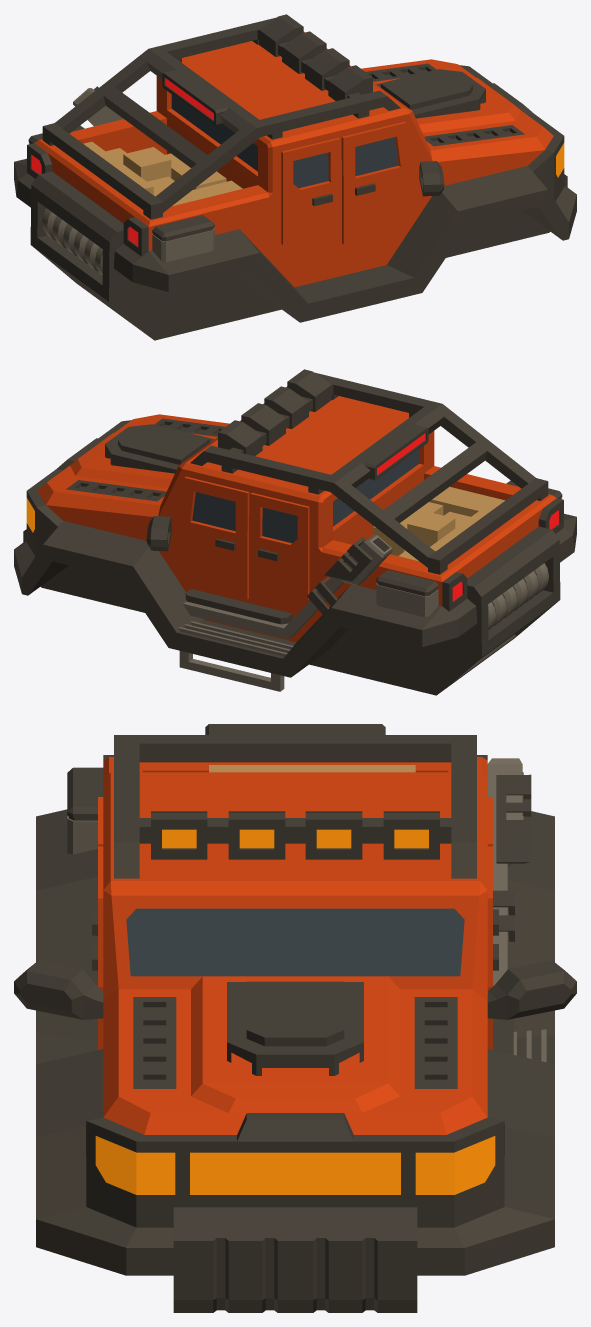
File: chassis.glb
3 renders of one model, top to bottom at view 1: azimuth 30°, elevation 25°; view 2: azimuth 150°, elevation 25°; view 3: azimuth 270°, elevation 25°, orthographic. The views are drawn at different scales.
Parts seen in each view (by area): view 1: Plane.001, Cube.011, Cube.017, Plane.003, Cube.033, stopLights; view 2: Plane.001, Cube.011, Plane.003, Cube.033, Cube.017, stopLights; view 3: Plane.001, Cube.011, Cube.017, Cube.099, Plane.003, blinkerLeft, blinkerRight, Cube.033.
Boxes of the visible parts, x1,y1,x2,y2 form: Plane.001: (14,14,576,340); Cube.011: (34,31,553,287); Cube.017: (171,94,398,188); Plane.003: (29,88,214,275); Cube.033: (83,141,242,206); stopLights: (31,78,213,246); Plane.001: (14,369,576,695); Cube.011: (37,386,556,642); Plane.003: (178,498,561,691); Cube.033: (373,486,505,561); Cube.017: (192,449,419,543); stopLights: (377,433,559,601); Plane.001: (14,724,576,1312); Cube.011: (98,757,492,1134); Cube.017: (126,908,464,976); Cube.099: (162,829,428,1194); Plane.003: (67,758,546,1062); blinkerLeft: (415,1136,495,1194); blinkerRight: (95,1136,175,1194); Cube.033: (209,765,415,772).
Bounding box in the file's own units: 2.99 × 1.32 × 1.89.
